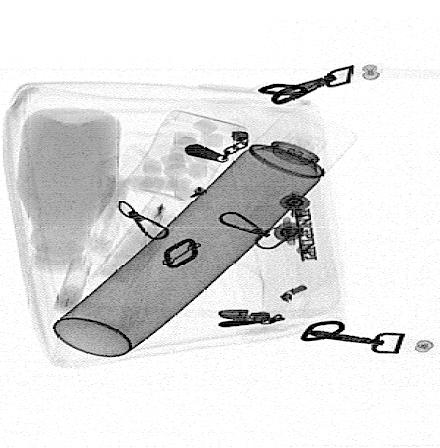Sprayer: (54, 113, 356, 358)
